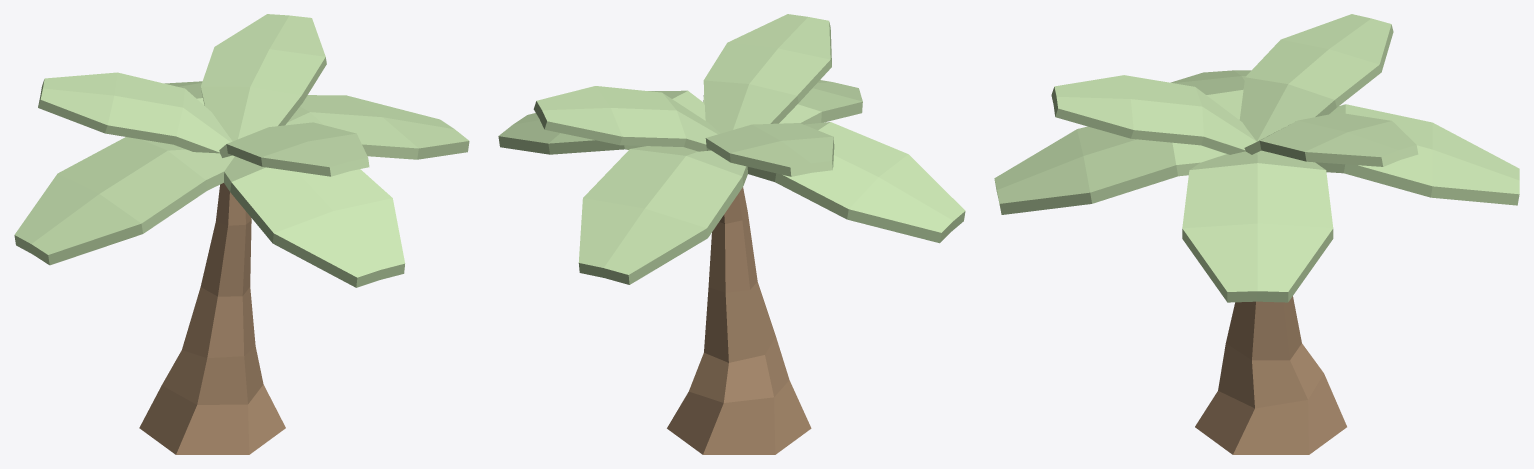
The model's file is Palm-col.glb.
The picture shows the model from 3 angles, left to right: view 1: azimuth 30°, elevation 25°; view 2: azimuth 150°, elevation 25°; view 3: azimuth 270°, elevation 25°; orthographic projection. The views are drawn at different scales.
Parts seen in each view (by area): view 1: Palm-col; view 2: Palm-col; view 3: Palm-col.
Part boxes in pixels (<box>): Palm-col: <box>14,14,469,454</box>; Palm-col: <box>498,14,965,454</box>; Palm-col: <box>994,14,1519,454</box>.
Size of the model in its own units: 4.96 by 3.61 by 4.95.
